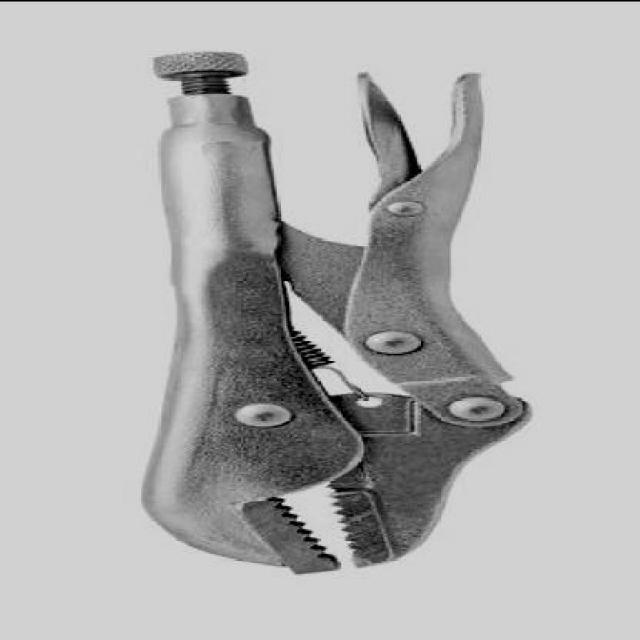pliers: (134, 47, 534, 580)
